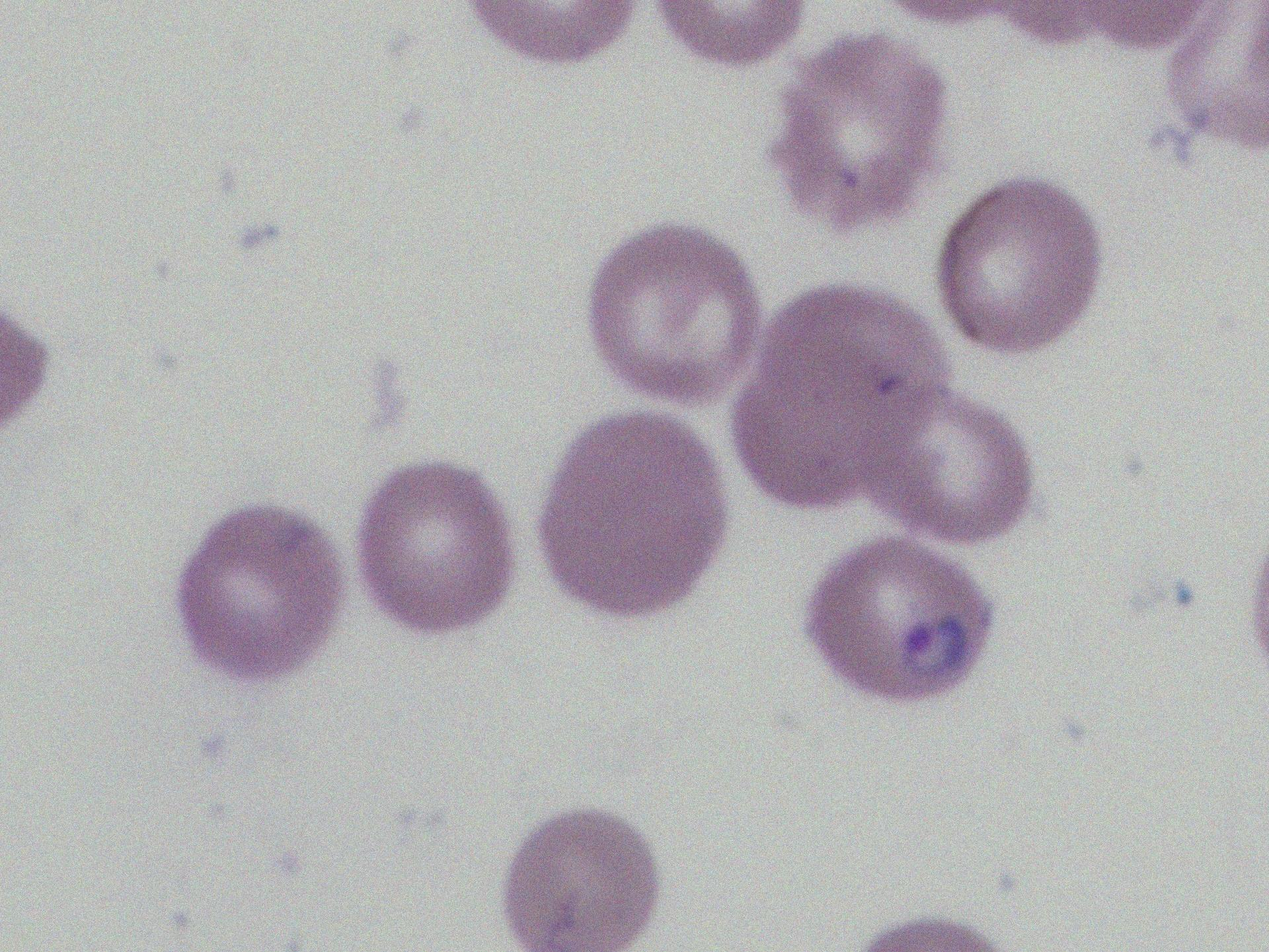Infected: (802, 540, 997, 699)
Uninfected: (731, 283, 944, 507), (538, 408, 726, 616), (776, 27, 941, 228), (595, 223, 762, 408), (181, 503, 348, 686), (943, 179, 1100, 356), (357, 461, 511, 632), (868, 382, 1031, 536), (509, 813, 652, 952)
